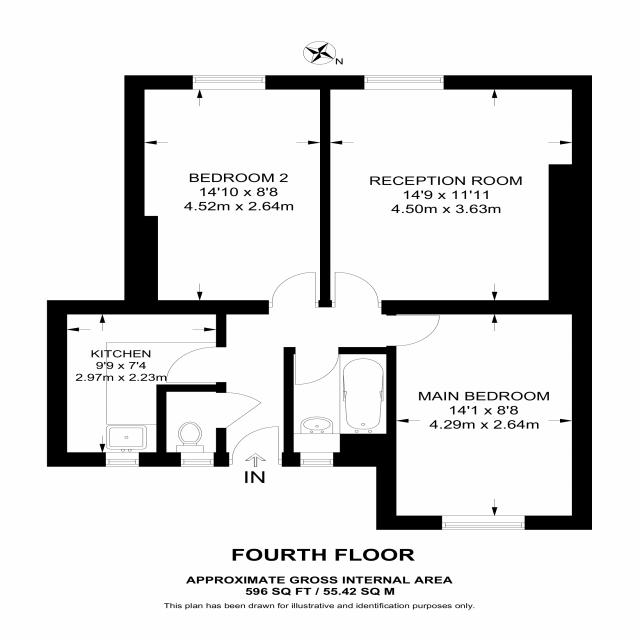DOOR: (164, 346, 226, 384), (229, 424, 283, 467), (381, 312, 446, 347), (215, 390, 267, 432), (292, 347, 341, 387), (331, 270, 382, 307), (269, 269, 318, 307)
ROOM: (320, 75, 593, 315), (376, 300, 593, 530), (124, 75, 330, 315), (47, 300, 269, 467)
WINDOW: (439, 513, 528, 532), (190, 72, 270, 92), (362, 73, 445, 91), (296, 450, 336, 470), (104, 451, 141, 469), (177, 451, 216, 468)
